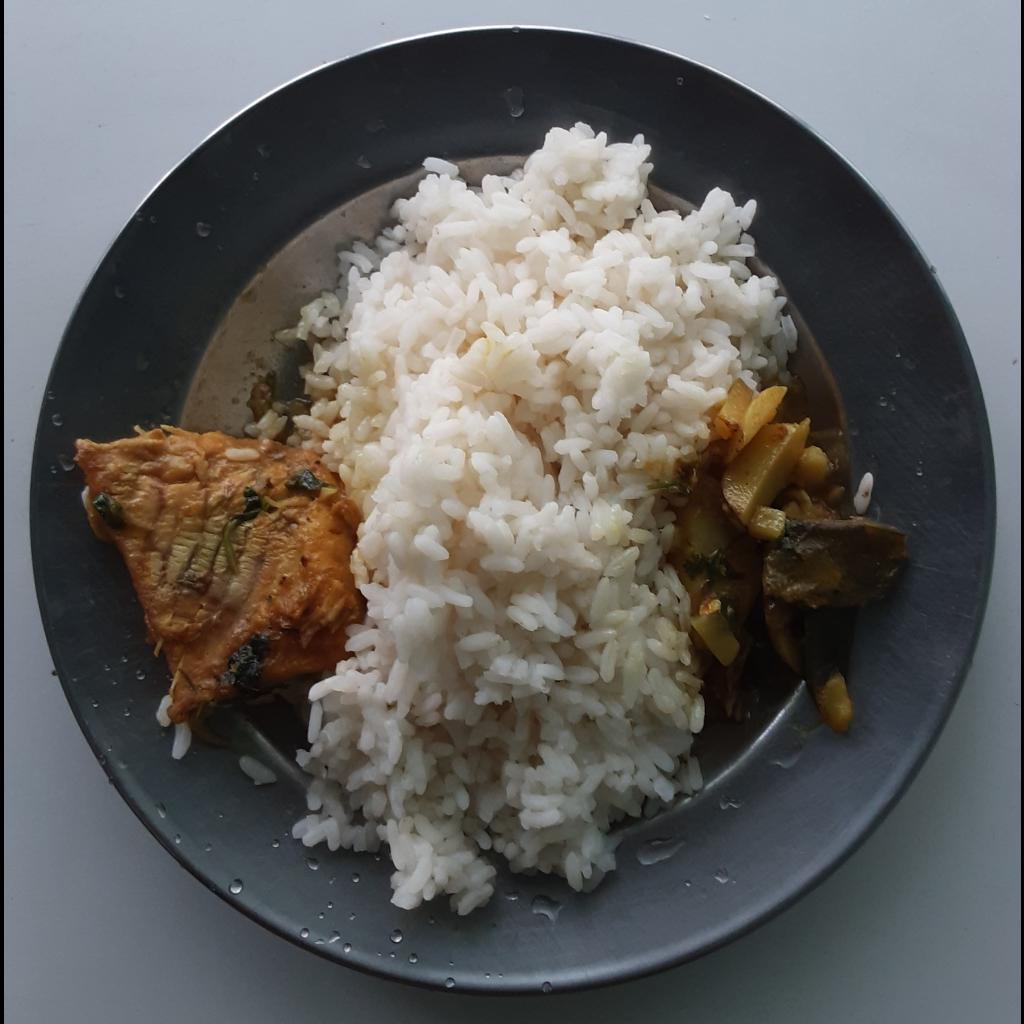fish: (72, 425, 360, 718)
potato: (682, 373, 845, 719)
rice: (244, 113, 800, 930)
shim: (762, 515, 907, 736)
